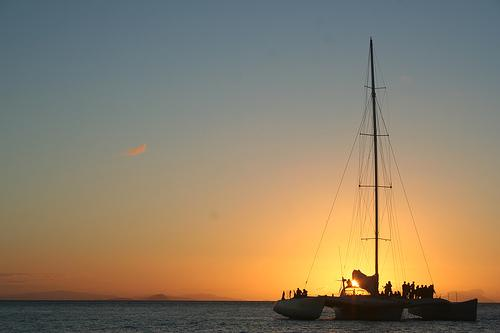Ship: (273, 35, 484, 325)
